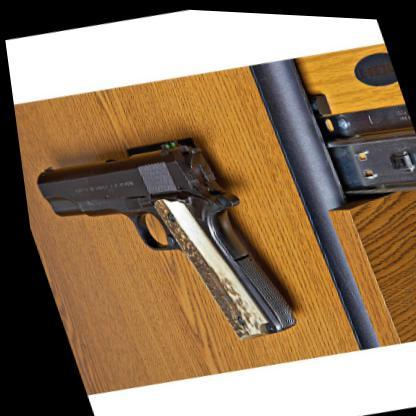pistol: (22, 113, 298, 372)
